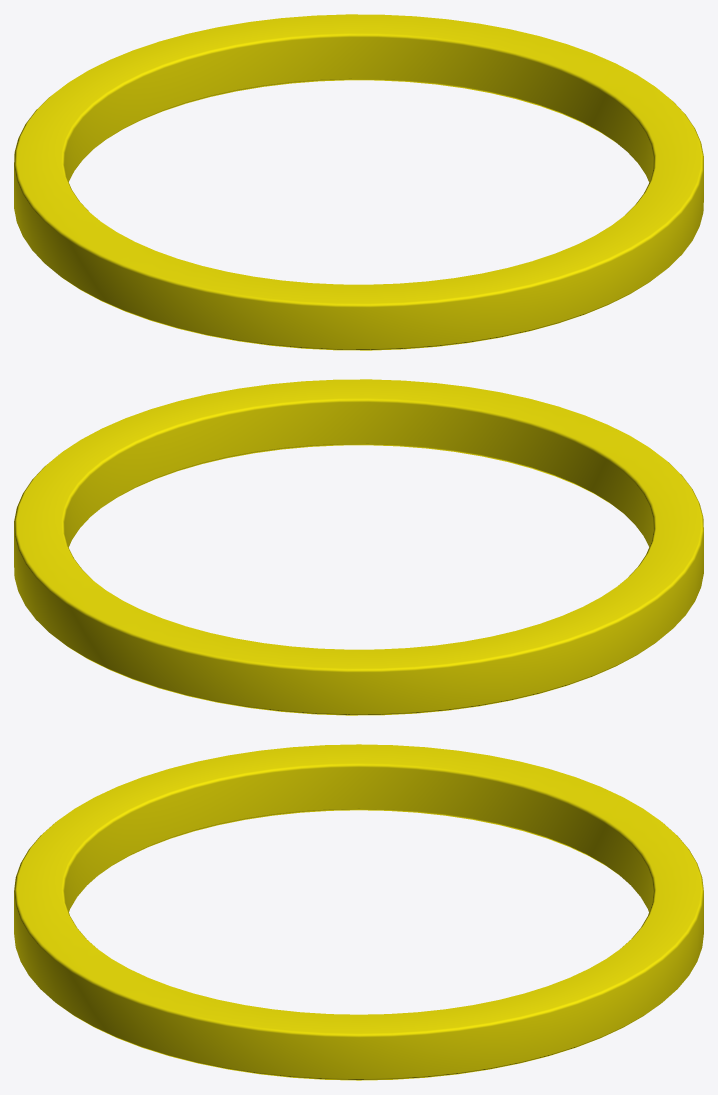
The picture shows the model from 3 angles, top to bottom: view 1: azimuth 30°, elevation 25°; view 2: azimuth 150°, elevation 25°; view 3: azimuth 270°, elevation 25°; orthographic projection.
Visible parts, largest first — view 1: seal_body; view 2: seal_body; view 3: seal_body.
Boxes of the visible parts, x1,y1,x2,y2 form: seal_body: (14,14,703,350); seal_body: (14,379,703,715); seal_body: (14,744,703,1080).
Bounding box in the file's own units: 0.0703 × 0.0053 × 0.0703.
